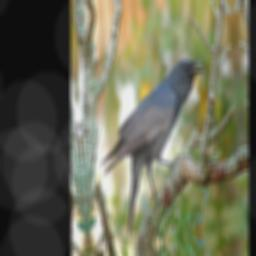Crow: (93, 53, 215, 245)
